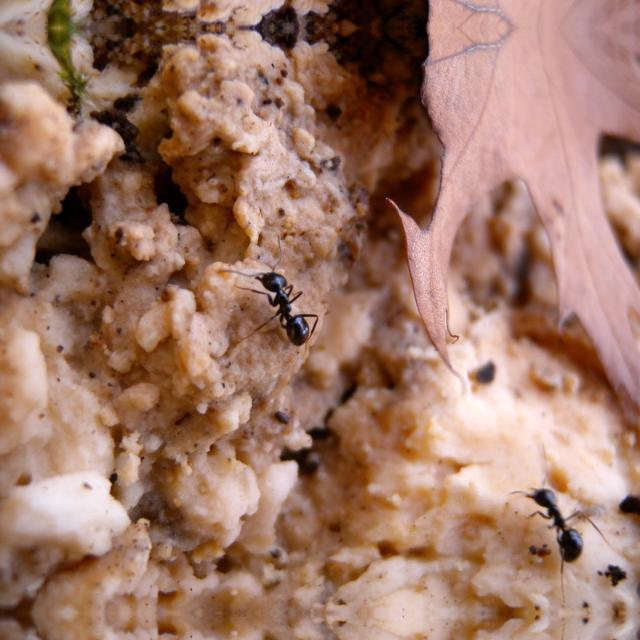Lasius: (235, 240, 329, 354), (512, 466, 604, 572)
